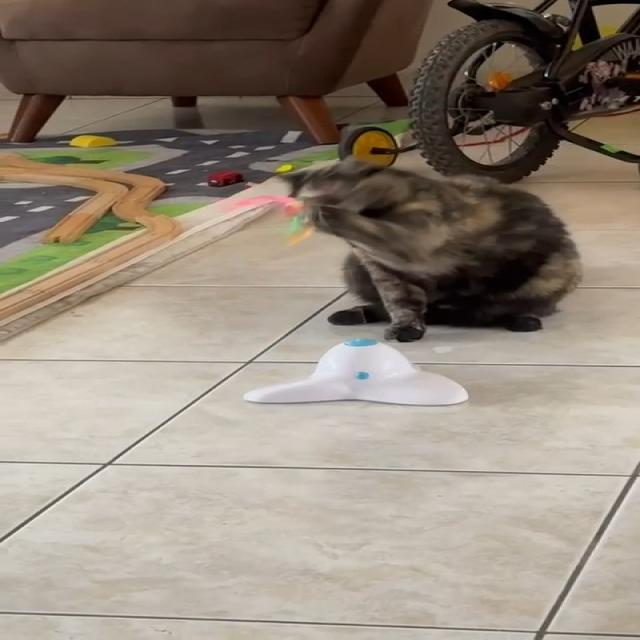authorized: (278, 156, 582, 342)
